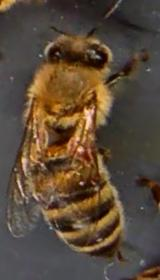varroa_mite: (65, 140, 93, 160)
